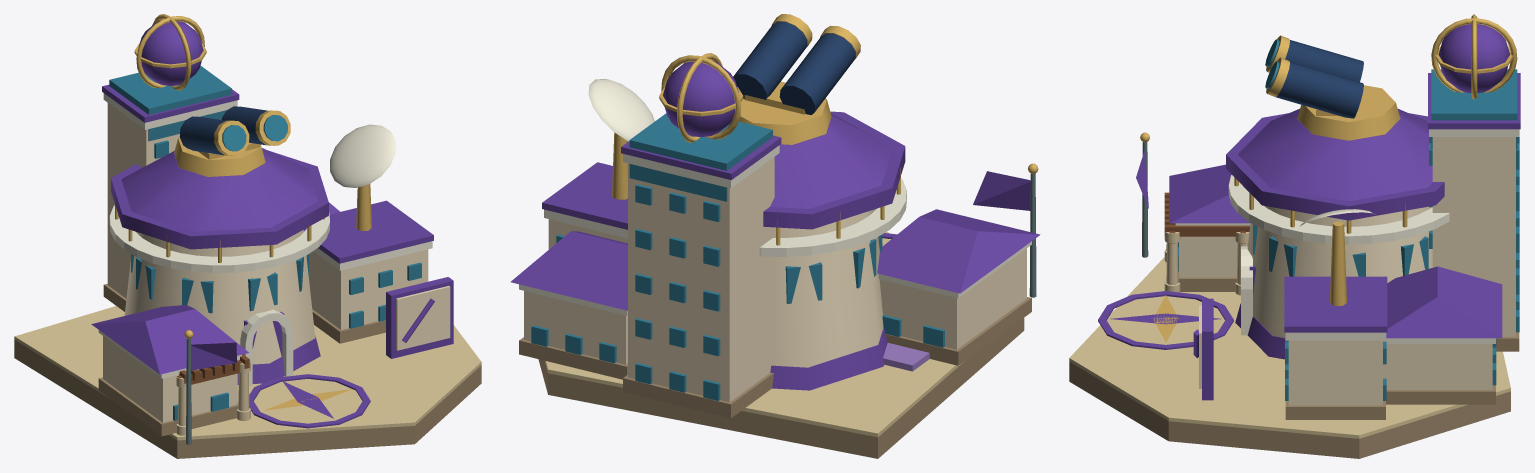
File: scout-center-lv5.glb
3 views of the same model, side by side, from view 1: azimuth 30°, elevation 25°; view 2: azimuth 150°, elevation 25°; view 3: azimuth 270°, elevation 25° (orthographic). The views are drawn at different scales.
Visible parts, largest first — view 1: foundation_sand, faceted_roof_violet, octagonal_office_cream, foundation_stoneDark, archive_wing_roof_violet, observation_eave_violet, communications_cream, archive_wing_cream, observation_balcony_white, communications_roof_violet, global_office_cream, global_office_crown_glass (+24 smaller); view 2: global_office_cream, octagonal_office_cream, foundation_stoneDark, foundation_sand, archive_wing_roof_violet, faceted_roof_violet, archive_wing_cream, roof_binoculars_naval, analysis_wing_roof_violet, global_office_crown_glass, global_office_windows_glass, analysis_wing_cream (+26 smaller); view 3: foundation_sand, global_office_cream, faceted_roof_violet, foundation_stoneDark, octagonal_office_cream, analysis_wing_roof_violet, communications_cream, communications_roof_violet, observation_eave_violet, analysis_wing_cream, roof_binoculars_naval, observation_balcony_white (+25 smaller).
Part boxes in pixels (x1,y1,x2,y2): foundation_sand: (14,306,481,440); faceted_roof_violet: (121,148,318,231); octagonal_office_cream: (124,230,315,364); foundation_stoneDark: (14,340,481,458); archive_wing_roof_violet: (91,305,248,374); observation_eave_violet: (111,150,328,249); communications_cream: (309,249,428,329); archive_wing_cream: (103,336,237,422); observation_balcony_white: (109,205,329,272); communications_roof_violet: (303,200,433,263); global_office_cream: (107,103,179,298); global_office_crown_glass: (109,65,231,141); global_office_cream: (628,157,774,402); octagonal_office_cream: (771,208,883,367); foundation_stoneDark: (538,318,1024,458); foundation_sand: (545,232,964,437); archive_wing_roof_violet: (877,209,1040,293); faceted_roof_violet: (770,114,892,208); archive_wing_cream: (879,248,1026,349); roof_binoculars_naval: (733,21,855,114); analysis_wing_roof_violet: (510,231,627,310); global_office_crown_glass: (629,113,772,201); global_office_windows_glass: (635,184,720,400); analysis_wing_cream: (524,291,627,364); foundation_sand: (1069,257,1510,438); global_office_cream: (1432,137,1515,336); faceted_roof_violet: (1238,108,1432,201); foundation_stoneDark: (1069,362,1510,458); octagonal_office_cream: (1247,206,1432,337); analysis_wing_roof_violet: (1386,266,1502,338); communications_cream: (1288,340,1382,405); communications_roof_violet: (1284,276,1387,332); observation_eave_violet: (1226,113,1444,220); analysis_wing_cream: (1383,344,1492,389); roof_binoculars_naval: (1276,40,1363,118); observation_balcony_white: (1228,175,1449,244).
Size of the model in its own units: 0.9957 by 0.8131 by 1.
